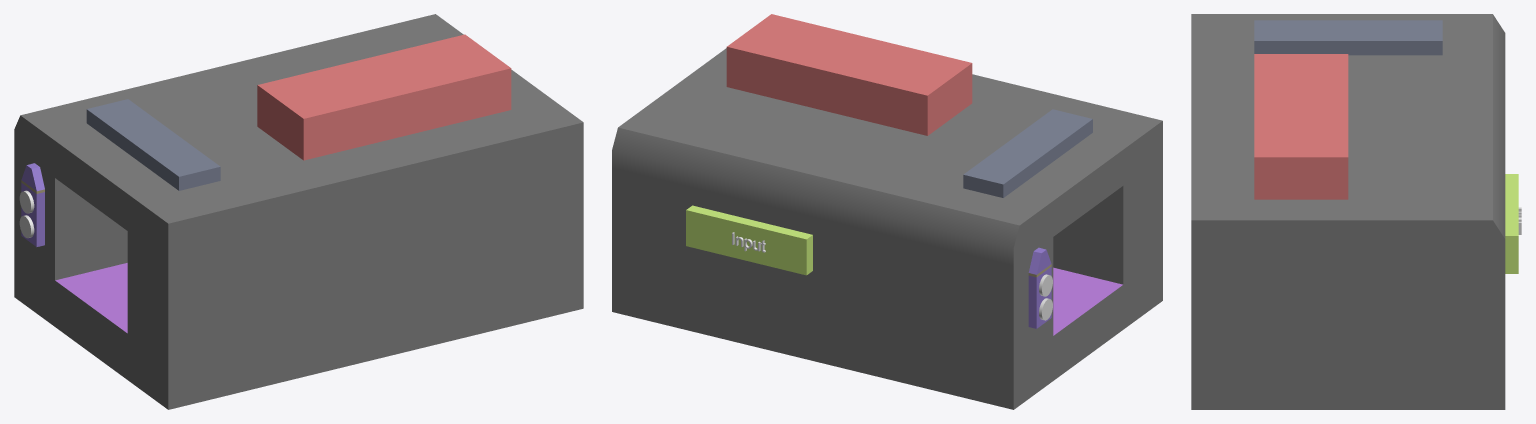
File: InputMachine_.FBX
3 renders of one model, left to right at view 1: azimuth 30°, elevation 25°; view 2: azimuth 150°, elevation 25°; view 3: azimuth 270°, elevation 25°, orthographic. The views are drawn at different scales.
Parts seen in each view (by area): view 1: Box005; view 2: Box005; view 3: Box005.
Boxes of the visible parts, box(x1,y1,x2,y2) form: Box005: box(14, 14, 583, 409); Box005: box(612, 14, 1162, 409); Box005: box(1191, 14, 1518, 409).
Size of the model in its own units: 71.99 by 36.71 by 47.34.
